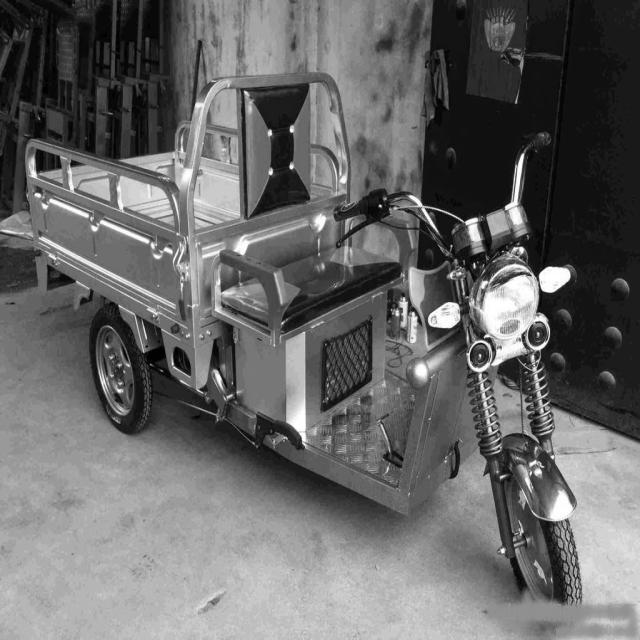tricycle: (23, 66, 585, 605)
